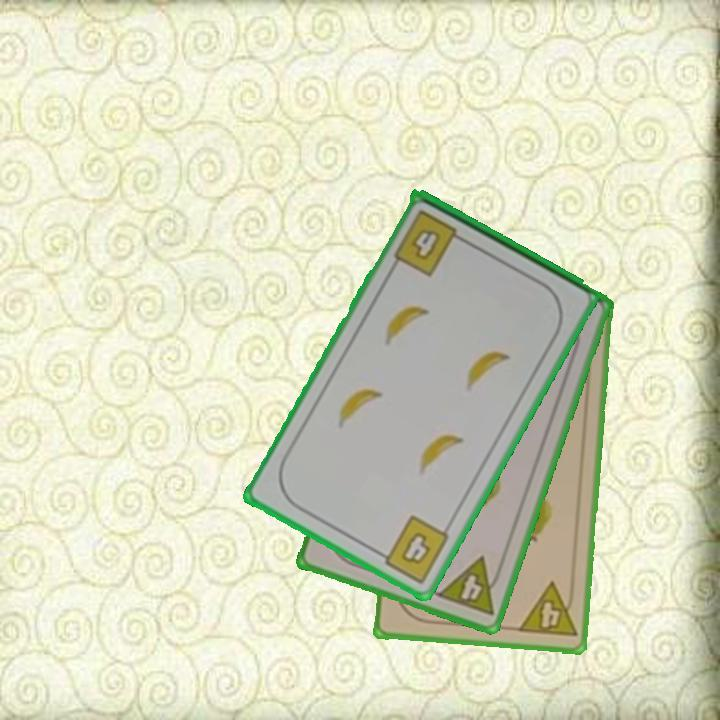4b: (372, 511, 453, 587), (390, 206, 470, 280)
4p: (433, 553, 507, 619), (514, 579, 580, 641)
